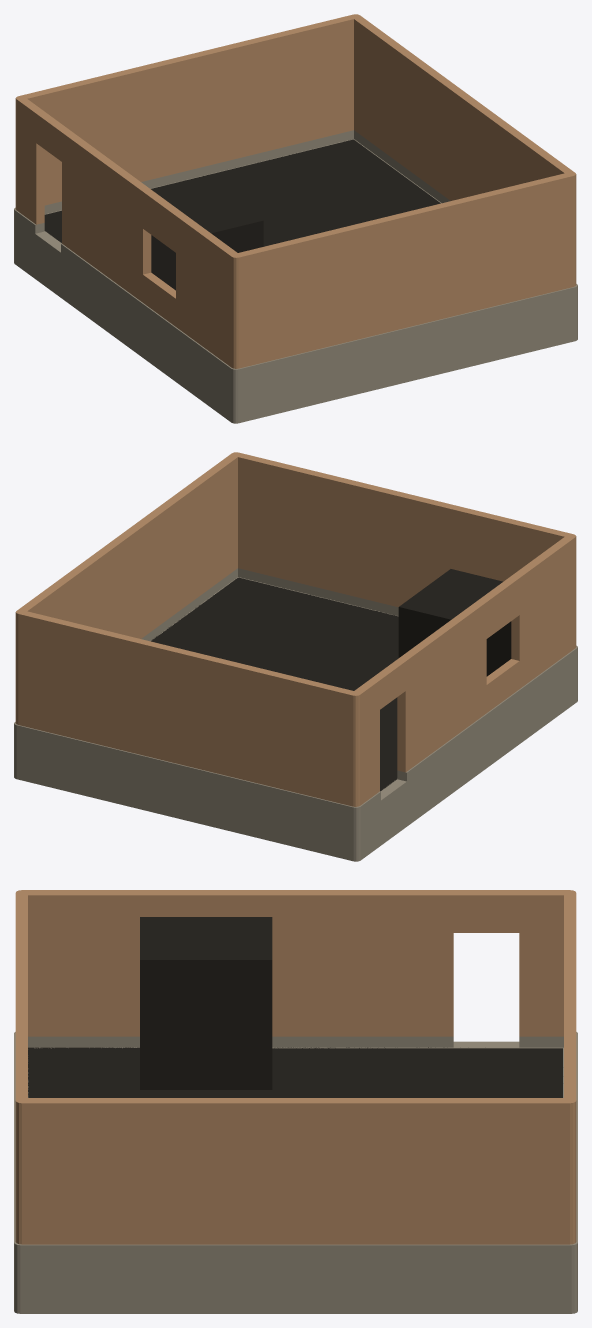
The model's file is SM_Homes_H03_Shell_LOD1.fbx.
3 views of the same model, one above another, from view 1: azimuth 30°, elevation 25°; view 2: azimuth 150°, elevation 25°; view 3: azimuth 270°, elevation 25° (orthographic). The views are drawn at different scales.
Parts seen in each view (by area): view 1: SM_Homes_H03_Shell_LOD1; view 2: SM_Homes_H03_Shell_LOD1; view 3: SM_Homes_H03_Shell_LOD1.
Boxes of the visible parts, bbox=[...] form: SM_Homes_H03_Shell_LOD1: bbox=[14, 14, 577, 423]; SM_Homes_H03_Shell_LOD1: bbox=[14, 452, 577, 861]; SM_Homes_H03_Shell_LOD1: bbox=[14, 890, 577, 1313].
Bounding box in the file's own units: 9.06 × 10.06 × 4.13.
